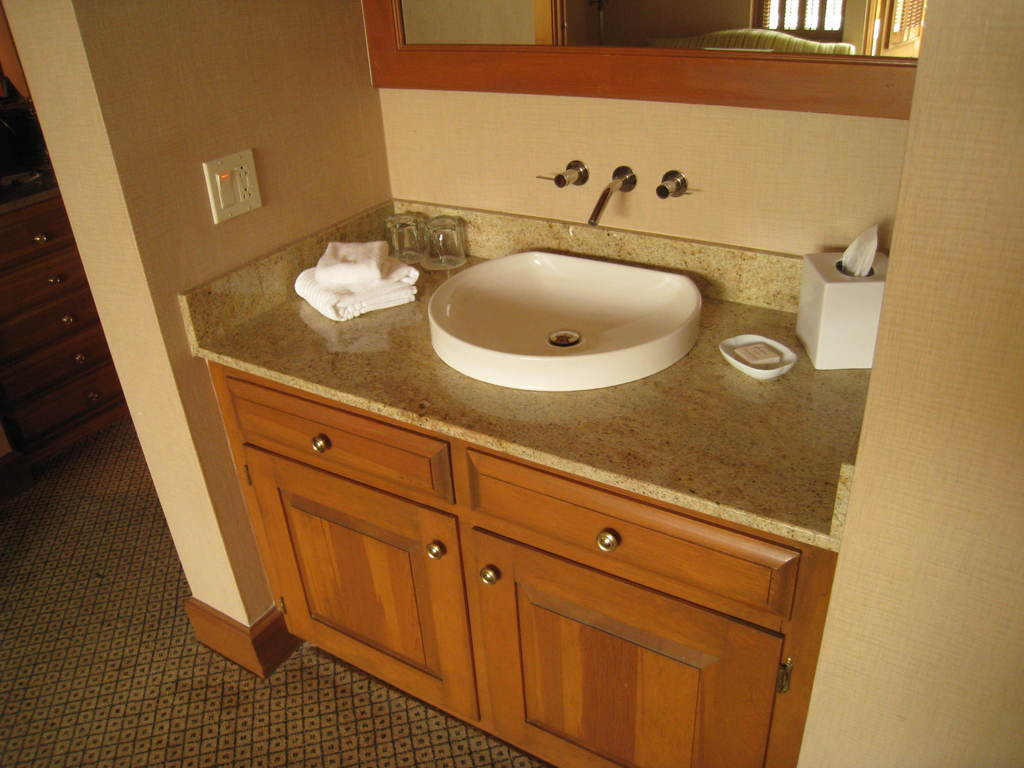tap: (583, 165, 640, 229)
